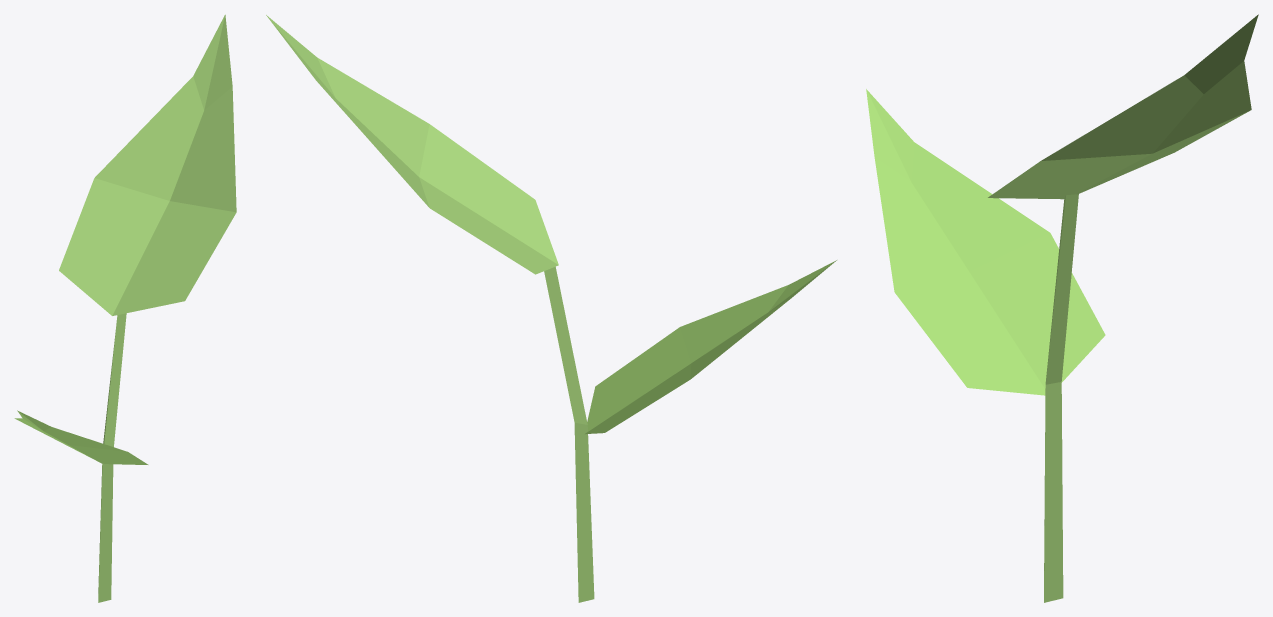
The model's file is Plant_f_OneS_02.fbx.
The picture shows the model from 3 angles, left to right: view 1: azimuth 30°, elevation 25°; view 2: azimuth 150°, elevation 25°; view 3: azimuth 270°, elevation 25°; orthographic projection. The views are drawn at different scales.
Visible parts, largest first — view 1: Plant_f_OneS_02; view 2: Plant_f_OneS_02; view 3: Plant_f_OneS_02.
Boxes of the visible parts, bbox=[...] form: Plant_f_OneS_02: bbox=[14, 14, 236, 602]; Plant_f_OneS_02: bbox=[266, 15, 836, 602]; Plant_f_OneS_02: bbox=[866, 14, 1258, 602].
Bounding box in the file's own units: 31.62 × 43.24 × 21.25.
